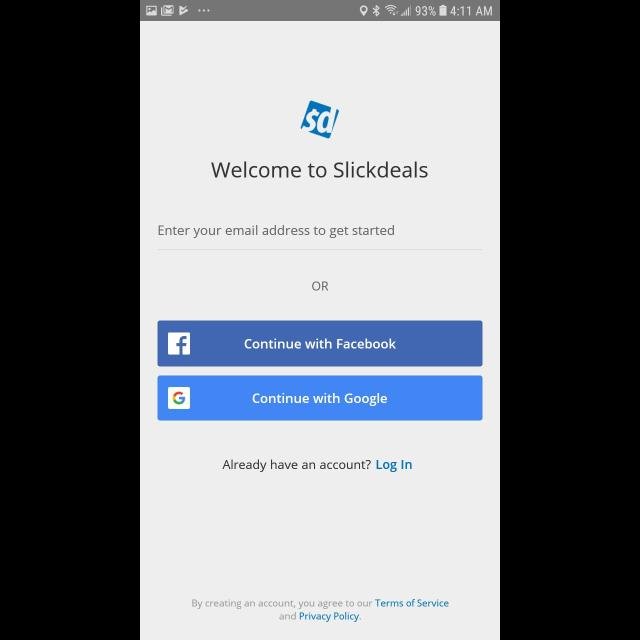image: (300, 100, 340, 140)
input: (158, 226, 482, 250)
text: (192, 598, 448, 622), (212, 162, 428, 178), (158, 226, 394, 238), (222, 460, 372, 472), (376, 460, 412, 472), (312, 280, 328, 292)
textbutton: (158, 321, 482, 367), (158, 376, 482, 420)
uppertaskbar: (140, 1, 500, 22)
